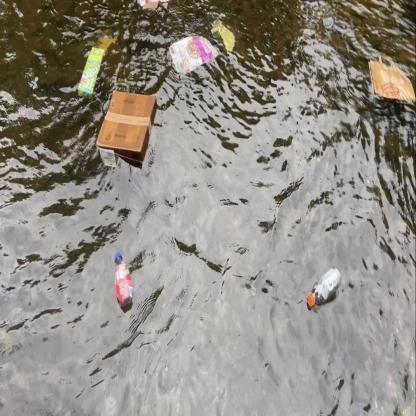trash: (92, 86, 160, 176), (164, 30, 222, 82), (366, 51, 416, 111), (303, 262, 344, 314), (74, 43, 106, 100), (112, 249, 134, 310), (208, 19, 239, 60), (135, 0, 175, 19)
